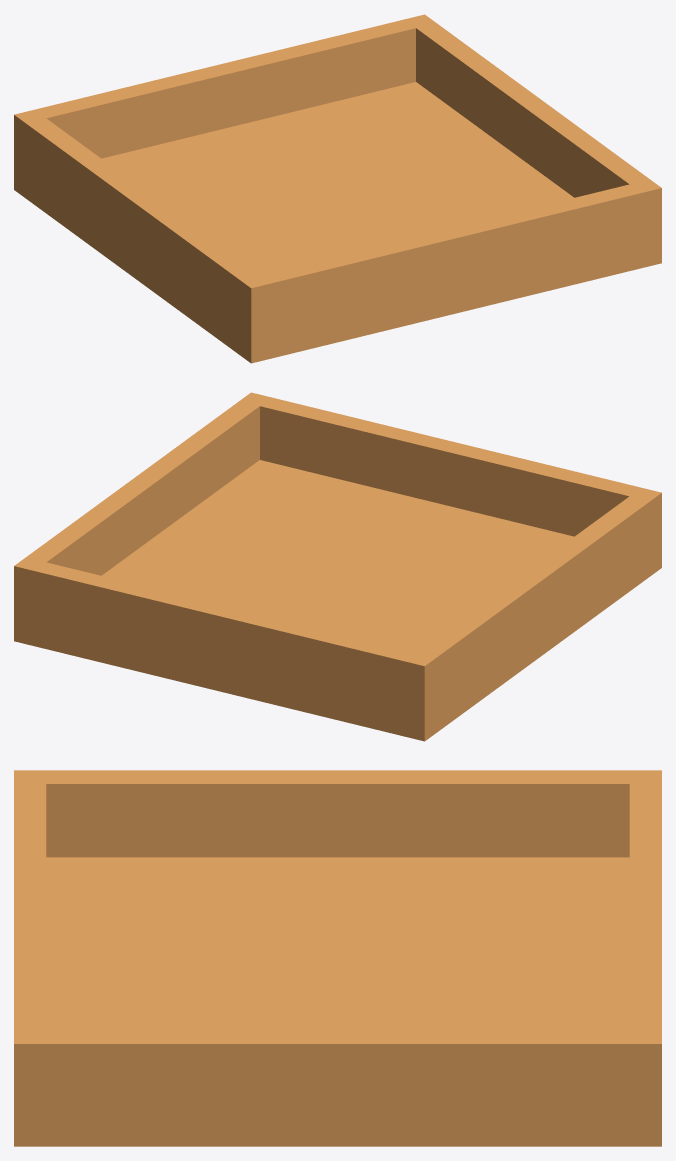
The model's file is YellowRoof_4Edges.glb.
3 renders of one model, top to bottom at view 1: azimuth 30°, elevation 25°; view 2: azimuth 150°, elevation 25°; view 3: azimuth 270°, elevation 25°, orthographic. The views are drawn at different scales.
Visible parts, largest first — view 1: roof_flat_4Edges_yellow; view 2: roof_flat_4Edges_yellow; view 3: roof_flat_4Edges_yellow.
Part boxes in pixels (x1=…): roof_flat_4Edges_yellow: x1=14, y1=14, x2=661, y2=363; roof_flat_4Edges_yellow: x1=14, y1=392, x2=661, y2=741; roof_flat_4Edges_yellow: x1=14, y1=770, x2=661, y2=1146.
Size of what is drawn, in the model's own units: 4 by 0.7 by 4.
1 material, 1 textured.
